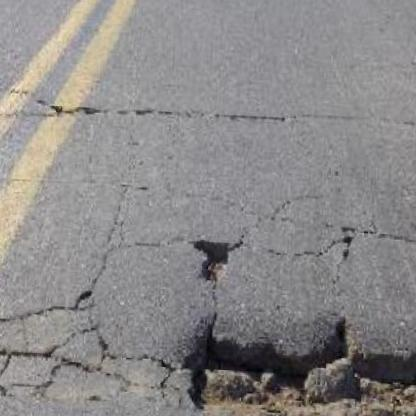pothole: (179, 319, 416, 416), (189, 234, 236, 285)
